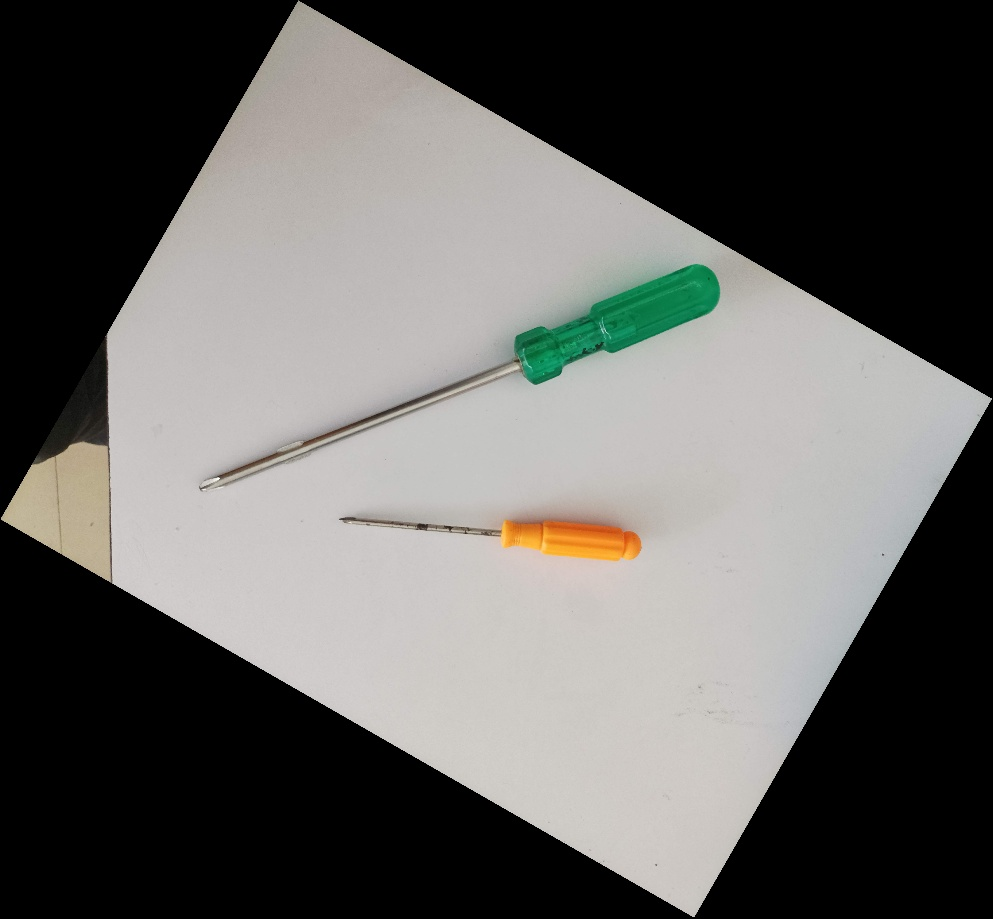screwdriver: (194, 261, 724, 494), (331, 511, 643, 563)
